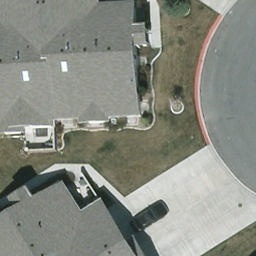car: (128, 201, 170, 236)
